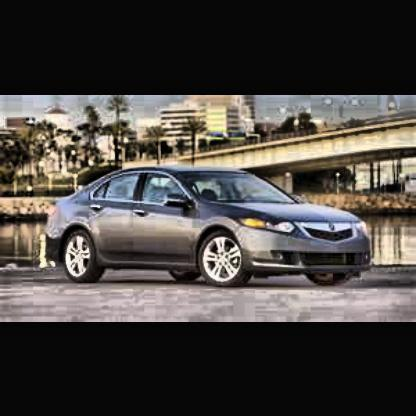Acura TSX Sedan 2012: (48, 169, 375, 288)
